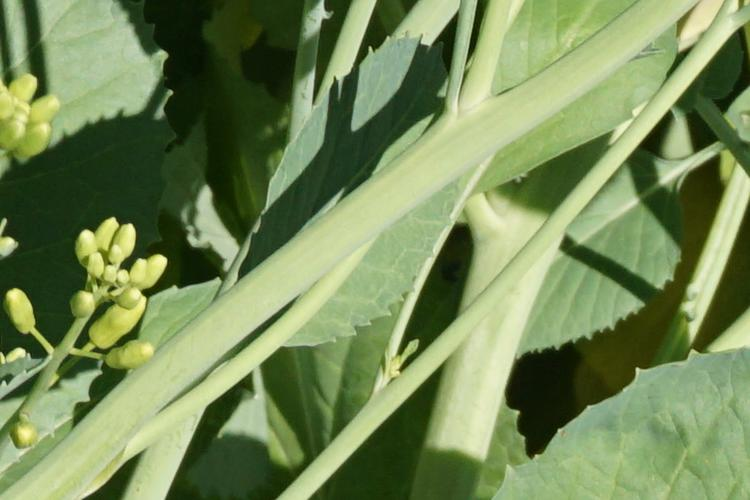bud: (93, 298, 149, 347), (1, 288, 38, 337), (102, 341, 151, 369), (112, 224, 140, 265), (8, 418, 40, 453), (21, 125, 50, 162), (95, 214, 121, 255), (27, 95, 63, 124), (73, 229, 99, 265), (69, 292, 97, 322), (146, 253, 168, 290), (4, 97, 31, 127), (12, 74, 38, 101), (85, 254, 107, 285), (109, 287, 139, 309), (4, 123, 26, 151), (2, 237, 18, 260), (135, 260, 148, 288), (117, 270, 132, 286), (105, 267, 120, 283)
